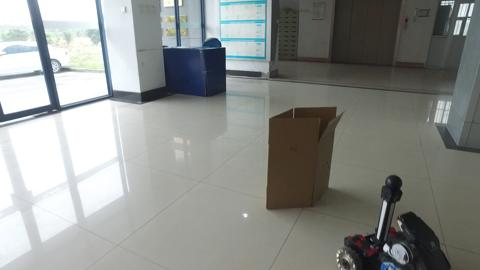box: (259, 97, 345, 211)
chariot: (337, 174, 455, 270)
